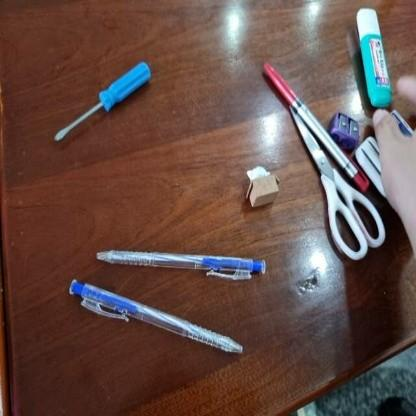not trash: (52, 278, 248, 374), (285, 107, 378, 266), (255, 60, 361, 182), (51, 63, 154, 144), (88, 241, 276, 282), (347, 3, 392, 112), (351, 136, 393, 206), (235, 164, 282, 216), (325, 108, 359, 143)
